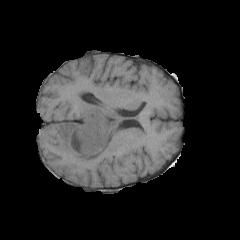glioma: (55, 91, 122, 163)
